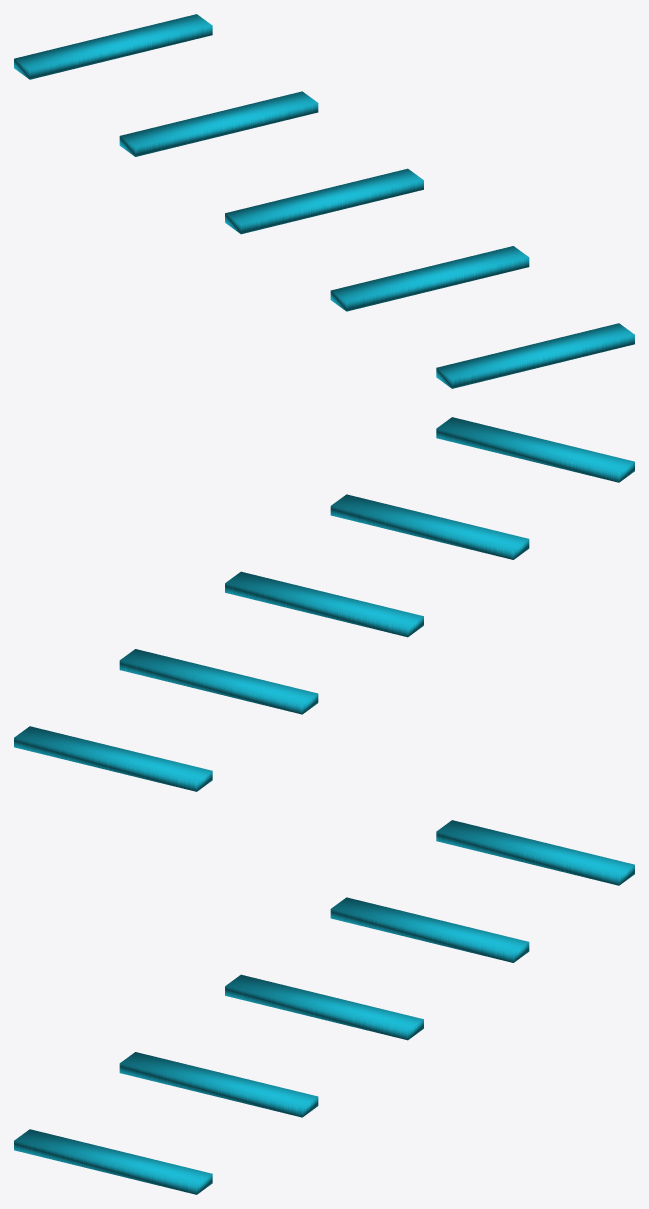
The model's file is 094_L101_Layer_Stack_Reference.obj.
The picture shows the model from 3 angles, top to bottom: view 1: azimuth 30°, elevation 25°; view 2: azimuth 150°, elevation 25°; view 3: azimuth 330°, elevation 25°; orthographic projection.
Visible parts, largest first — view 1: Board_Reference_Marker_03_3__PSMAT__Signal_Cyan, Board_Reference_Marker_01_1__PSMAT__Signal_Cyan, Board_Reference_Marker_04_4__PSMAT__Signal_Cyan, Board_Reference_Marker_00_0__PSMAT__Signal_Cyan, Board_Reference_Marker_02_2__PSMAT__Signal_Cyan; view 2: Board_Reference_Marker_03_3__PSMAT__Signal_Cyan, Board_Reference_Marker_01_1__PSMAT__Signal_Cyan, Board_Reference_Marker_04_4__PSMAT__Signal_Cyan, Board_Reference_Marker_00_0__PSMAT__Signal_Cyan, Board_Reference_Marker_02_2__PSMAT__Signal_Cyan; view 3: Board_Reference_Marker_03_3__PSMAT__Signal_Cyan, Board_Reference_Marker_01_1__PSMAT__Signal_Cyan, Board_Reference_Marker_04_4__PSMAT__Signal_Cyan, Board_Reference_Marker_00_0__PSMAT__Signal_Cyan, Board_Reference_Marker_02_2__PSMAT__Signal_Cyan.
Part boxes in pixels (box(x1,y1,x2,y2)): Board_Reference_Marker_03_3__PSMAT__Signal_Cyan: box(330, 246, 529, 311); Board_Reference_Marker_01_1__PSMAT__Signal_Cyan: box(119, 91, 318, 156); Board_Reference_Marker_04_4__PSMAT__Signal_Cyan: box(436, 323, 634, 388); Board_Reference_Marker_00_0__PSMAT__Signal_Cyan: box(14, 14, 212, 79); Board_Reference_Marker_02_2__PSMAT__Signal_Cyan: box(225, 168, 423, 234); Board_Reference_Marker_03_3__PSMAT__Signal_Cyan: box(330, 494, 529, 559); Board_Reference_Marker_01_1__PSMAT__Signal_Cyan: box(119, 649, 318, 714); Board_Reference_Marker_04_4__PSMAT__Signal_Cyan: box(436, 417, 634, 482); Board_Reference_Marker_00_0__PSMAT__Signal_Cyan: box(14, 726, 212, 791); Board_Reference_Marker_02_2__PSMAT__Signal_Cyan: box(225, 571, 423, 637); Board_Reference_Marker_03_3__PSMAT__Signal_Cyan: box(119, 1052, 318, 1117); Board_Reference_Marker_01_1__PSMAT__Signal_Cyan: box(330, 897, 529, 962); Board_Reference_Marker_04_4__PSMAT__Signal_Cyan: box(14, 1129, 212, 1194); Board_Reference_Marker_00_0__PSMAT__Signal_Cyan: box(436, 820, 634, 885); Board_Reference_Marker_02_2__PSMAT__Signal_Cyan: box(225, 974, 423, 1040).
Bounding box in the file's own units: 0.003 × 0.00015 × 0.0125.
1 material, 1 textured.
